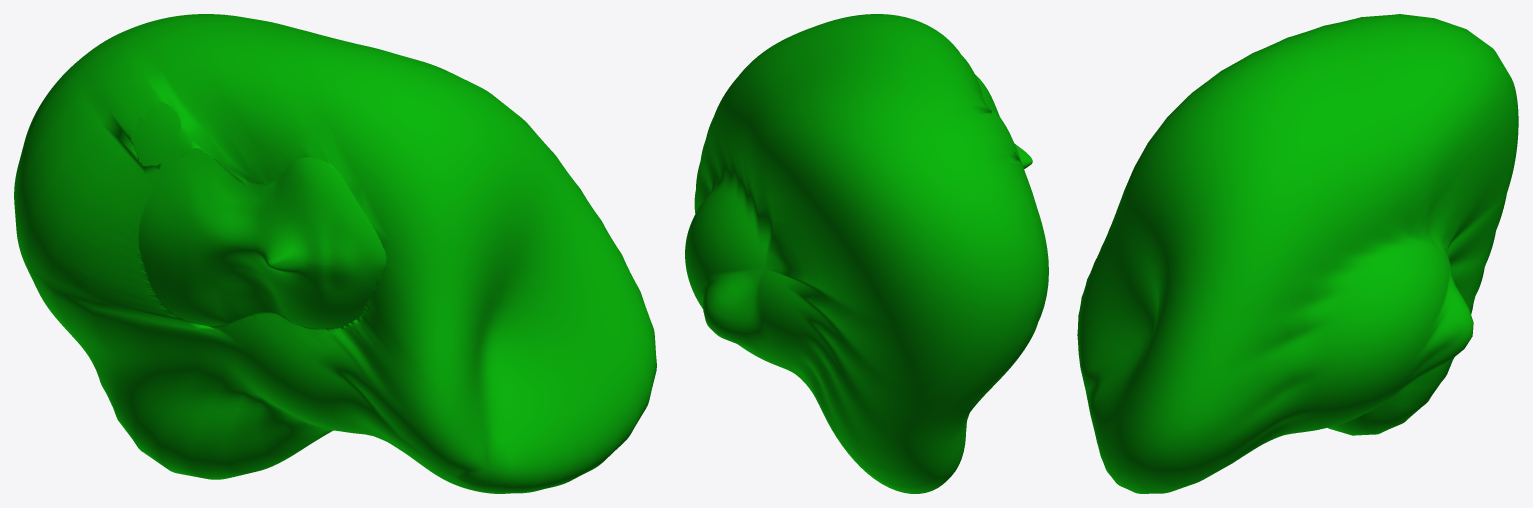
Rendered from Onbutukun_02.fbx.
3 renders of one model, left to right at view 1: azimuth 30°, elevation 25°; view 2: azimuth 150°, elevation 25°; view 3: azimuth 270°, elevation 25°, orthographic. The views are drawn at different scales.
Parts seen in each view (by area): view 1: 球.023; view 2: 球.023; view 3: 球.023.
Boxes of the visible parts, <box> form: 球.023: <box>14,14,656,493</box>; 球.023: <box>685,14,1048,493</box>; 球.023: <box>1077,14,1518,493</box>.
Bounding box in the file's own units: 19.91 × 17.22 × 17.17.
